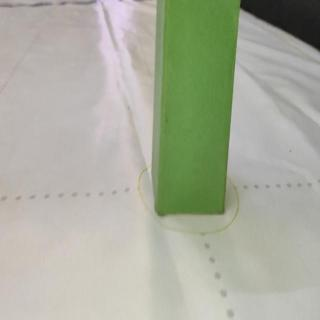greenbox: (151, 0, 241, 214)
